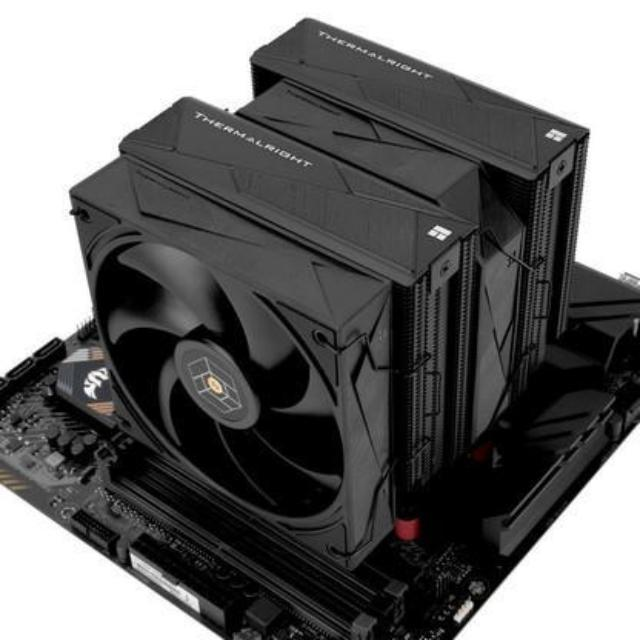CPU_Fan: (46, 10, 594, 579)
